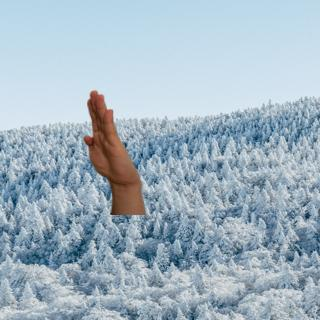RIGHT: (76, 86, 143, 188)
